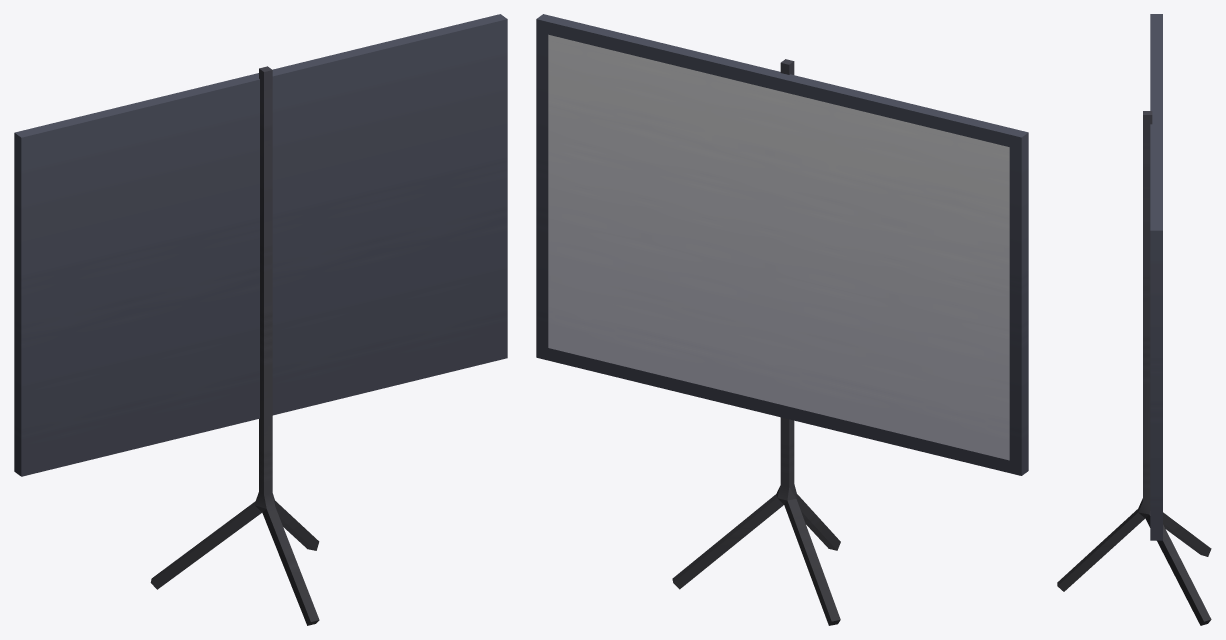
The model's file is projector-screen.fbx.
3 renders of one model, left to right at view 1: azimuth 30°, elevation 25°; view 2: azimuth 150°, elevation 25°; view 3: azimuth 270°, elevation 25°, orthographic. The views are drawn at different scales.
Visible parts, largest first — view 1: projector-screen; view 2: projector-screen; view 3: projector-screen.
Boxes of the visible parts, bbox=[...] form: projector-screen: bbox=[14, 14, 507, 625]; projector-screen: bbox=[536, 14, 1028, 625]; projector-screen: bbox=[1057, 14, 1211, 625].
Bounding box in the file's own units: 1.4 × 0.4205 × 1.44.
